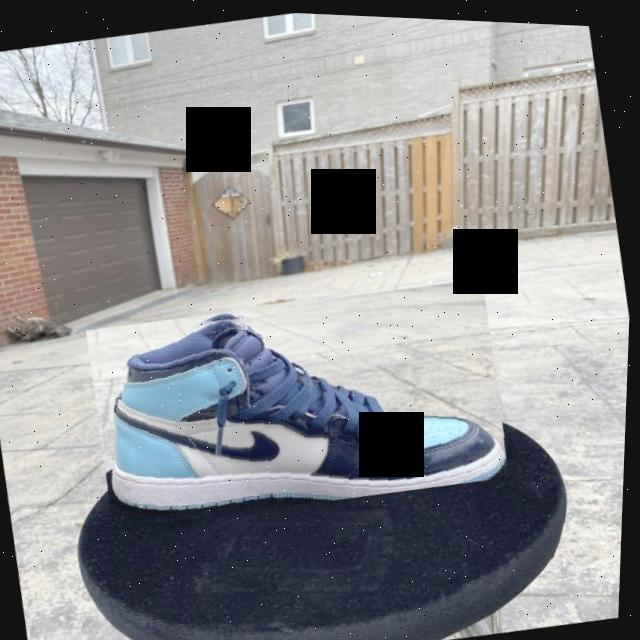shoe: (82, 260, 519, 541)
